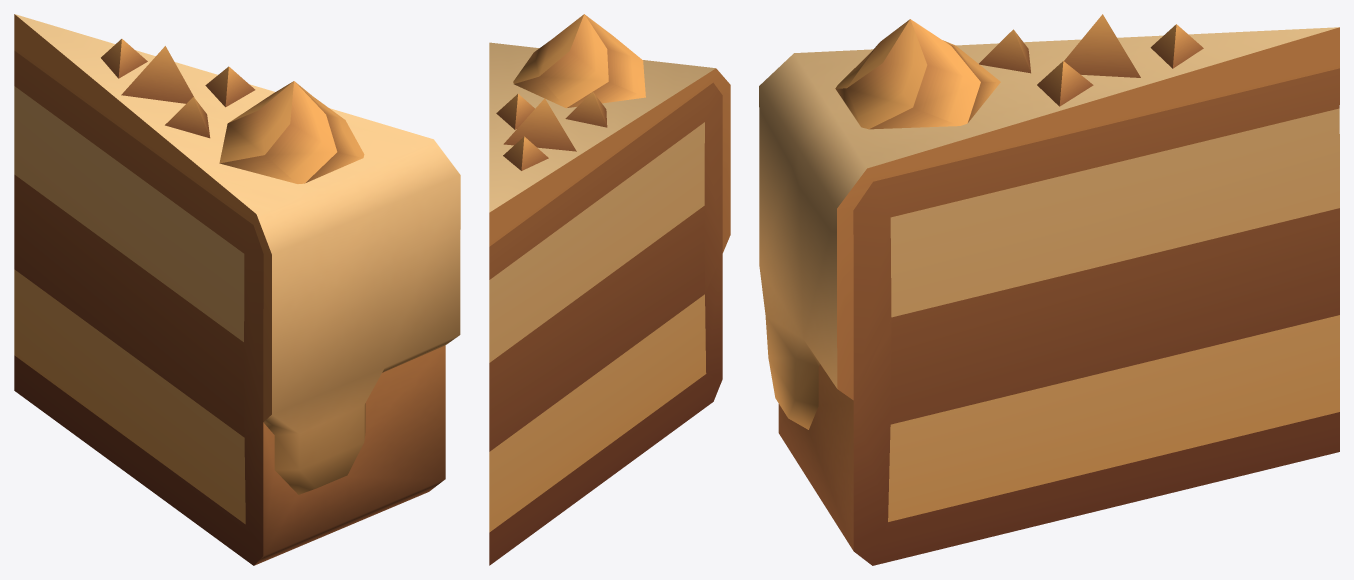
Rendered from m_WhiteChocolateCake01_Slice02.fbx.
3 renders of one model, left to right at view 1: azimuth 30°, elevation 25°; view 2: azimuth 150°, elevation 25°; view 3: azimuth 270°, elevation 25°, orthographic. The views are drawn at different scales.
Parts seen in each view (by area): view 1: m_WhiteChocolateCake01_Slice02; view 2: m_WhiteChocolateCake01_Slice02; view 3: m_WhiteChocolateCake01_Slice02.
Part boxes in pixels (bbox=[...]): m_WhiteChocolateCake01_Slice02: bbox=[14, 14, 460, 565]; m_WhiteChocolateCake01_Slice02: bbox=[489, 14, 730, 565]; m_WhiteChocolateCake01_Slice02: bbox=[759, 14, 1339, 565].
Size of the model in its own units: 7.24 by 13.27 by 14.48.
